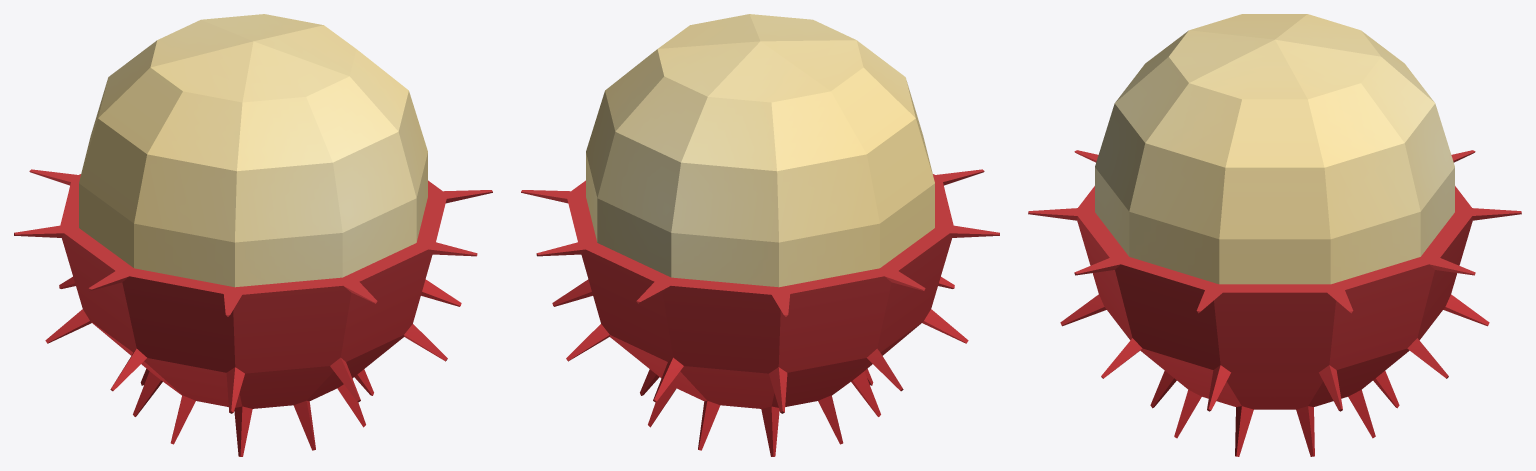
File: Rambutan Half.fbx
3 views of the same model, side by side, from view 1: azimuth 30°, elevation 25°; view 2: azimuth 150°, elevation 25°; view 3: azimuth 270°, elevation 25° (orthographic).
Parts seen in each view (by area): view 1: Rambutan Half; view 2: Rambutan Half; view 3: Rambutan Half.
Boxes of the visible parts, x1,y1,x2,y2 form: Rambutan Half: (14,14,492,456); Rambutan Half: (521,14,999,456); Rambutan Half: (1028,14,1521,456).
Bounding box in the file's own units: 14.75 × 12.73 × 15.5.
